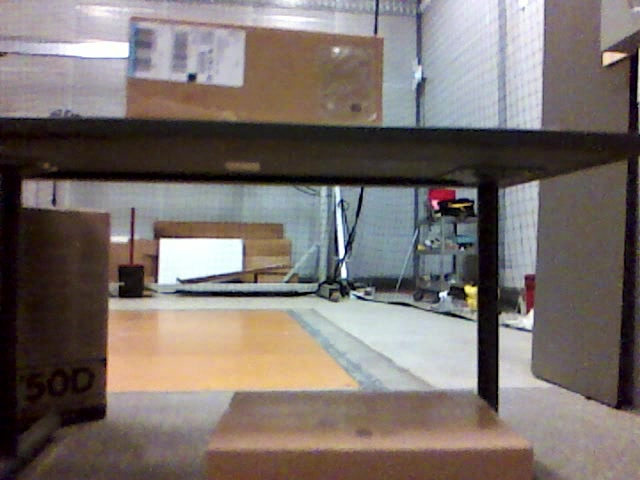box: (206, 390, 532, 480), (129, 17, 384, 127)
